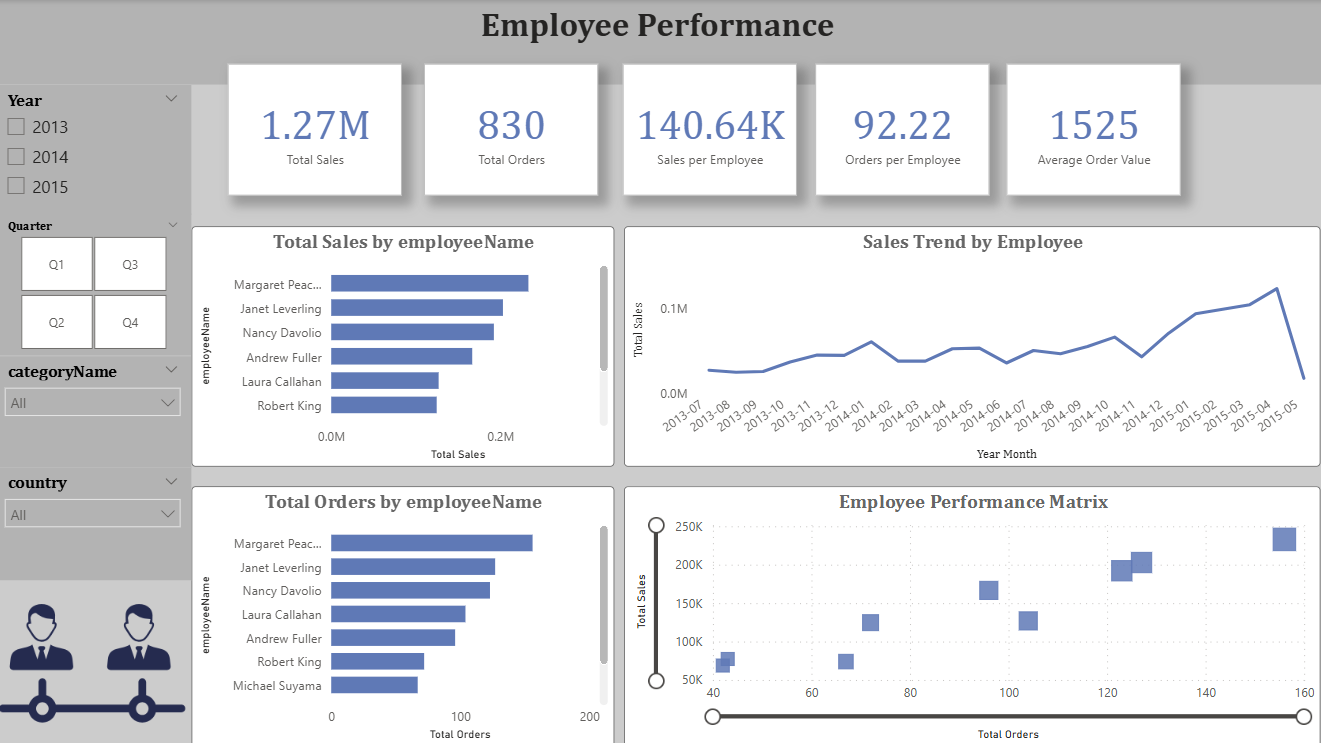

Layout of this report page (visuals, bound fields, positions):
{"tool":"powerbi","page":{"name":"Employee Performance","canvas":[1280,720],"ordinal":3},"visuals":[{"type":"textbox","box":[0,0,1280.5,81.6],"z":0},{"type":"card","fields":{"Values":["_Measures.Total Sales"]},"box":[225.2,61.3,168.1,127.3],"z":1000},{"type":"card","fields":{"Values":["_Measures.Total Orders"]},"box":[414.3,61.3,168.1,127.3],"z":2000},{"type":"card","fields":{"Values":["_Measures.Sales per Employee"]},"box":[607.1,61.3,168.1,127.3],"z":3000},{"type":"card","fields":{"Values":["_Measures.Orders per Employee"]},"box":[792.5,61.3,168.1,127.3],"z":4000},{"type":"card","fields":{"Values":["_Measures.Average Order Value"]},"box":[976.7,61.3,168.1,127.3],"z":5000},{"type":"lineChart","title":"Sales Trend by Employee","fields":{"Y":["_Measures.Total Sales"],"Category":["Calendar.Year Month"]},"box":[608.1,218.8,672.4,232.4],"z":6000},{"type":"scatterChart","title":"Employee Performance Matrix","fields":{"Category":["employees.employeeName"],"X":["_Measures.Total Orders"],"Y":["_Measures.Total Sales"],"Size":["_Measures.Total Quantity"]},"box":[608.1,469.7,672.4,250.9],"z":7000},{"type":"barChart","fields":{"Category":["employees.employeeName"],"Y":["_Measures.Total Sales"]},"box":[190.3,218.8,407.9,232.4],"z":8000},{"type":"barChart","fields":{"Category":["employees.employeeName"],"Y":["_Measures.Total Orders"]},"box":[190.3,469.7,407.9,250.9],"z":9000},{"type":"slicer","fields":{"Values":["customers.country"]},"box":[0,451.1,190.3,108.8],"z":10000},{"type":"slicer","fields":{"Values":["categories.categoryName"]},"box":[0,343.6,190.3,107.5],"z":11000},{"type":"slicer","fields":{"Values":["Calendar.Quarter"]},"box":[0,206.4,190.3,137.2],"z":12000},{"type":"slicer","fields":{"Values":["Calendar.Year"]},"box":[0,81.6,190.3,124.8],"z":13000},{"type":"image","box":[0,560,190,160],"z":13001}]}

Visuals, with their boxes in screenshot pixels (x1, y1, x2, y2), scaled from the page's 1280x720 canvas onto the 1321x743 screenshot:
textbox: <bbox>0, 0, 1320, 84</bbox>
card - _Measures.Total Sales: <bbox>232, 63, 406, 195</bbox>
card - _Measures.Total Orders: <bbox>428, 63, 601, 195</bbox>
card - _Measures.Sales per Employee: <bbox>627, 63, 800, 195</bbox>
card - _Measures.Orders per Employee: <bbox>818, 63, 991, 195</bbox>
card - _Measures.Average Order Value: <bbox>1008, 63, 1181, 195</bbox>
"Sales Trend by Employee" lineChart: <bbox>628, 226, 1320, 466</bbox>
"Employee Performance Matrix" scatterChart: <bbox>628, 485, 1320, 742</bbox>
barChart - employees.employeeName x _Measures.Total Sales: <bbox>196, 226, 617, 466</bbox>
barChart - employees.employeeName x _Measures.Total Orders: <bbox>196, 485, 617, 742</bbox>
slicer - customers.country: <bbox>0, 466, 196, 578</bbox>
slicer - categories.categoryName: <bbox>0, 355, 196, 466</bbox>
slicer - Calendar.Quarter: <bbox>0, 213, 196, 355</bbox>
slicer - Calendar.Year: <bbox>0, 84, 196, 213</bbox>
image: <bbox>0, 578, 196, 742</bbox>
